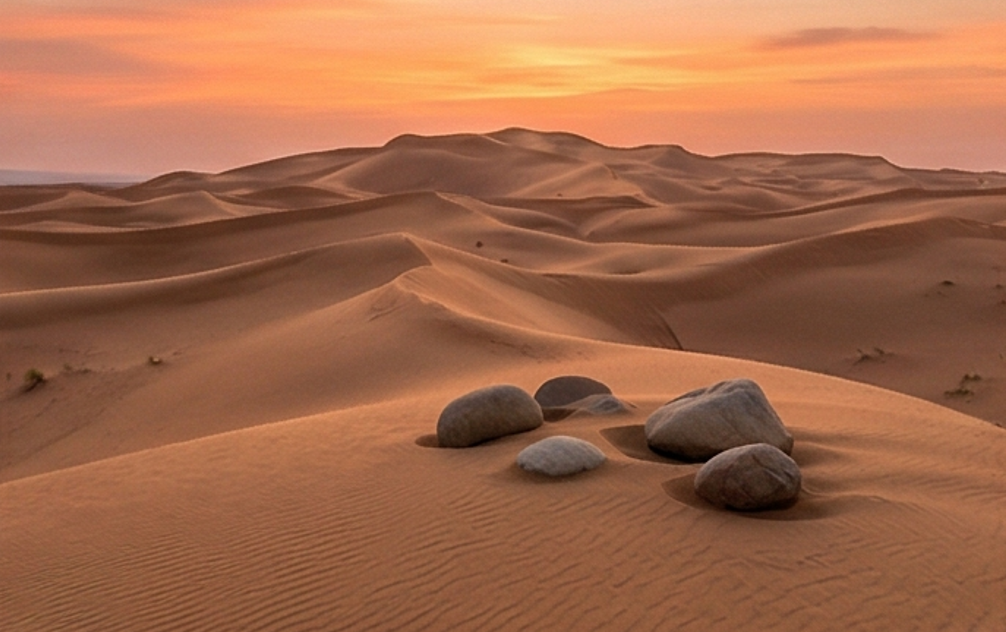rocks: (644, 380, 801, 509), (436, 376, 622, 447), (517, 435, 605, 476)
